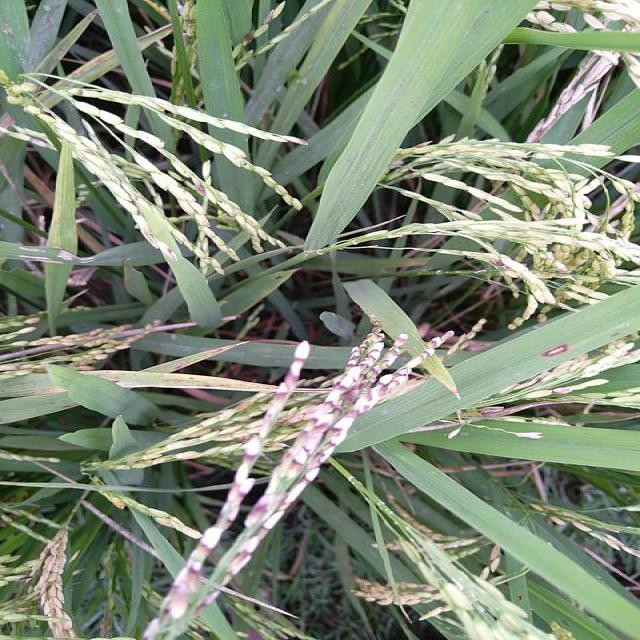Panicle Blight: (193, 331, 453, 616), (141, 341, 309, 639), (244, 316, 407, 528), (35, 531, 79, 639), (32, 323, 195, 346), (353, 577, 443, 606), (459, 402, 561, 422), (0, 356, 93, 376), (173, 160, 207, 197)
